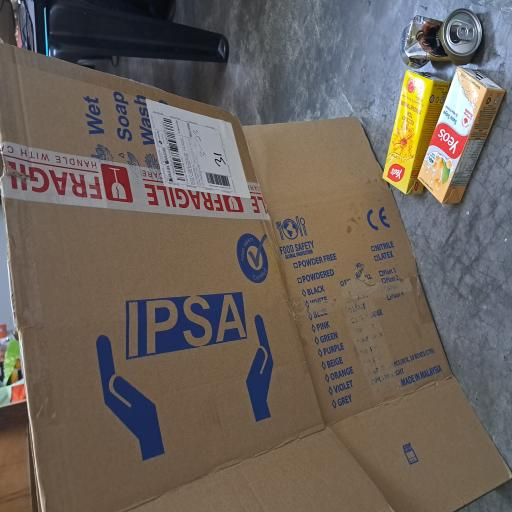cardboard: (0, 0, 353, 512)
